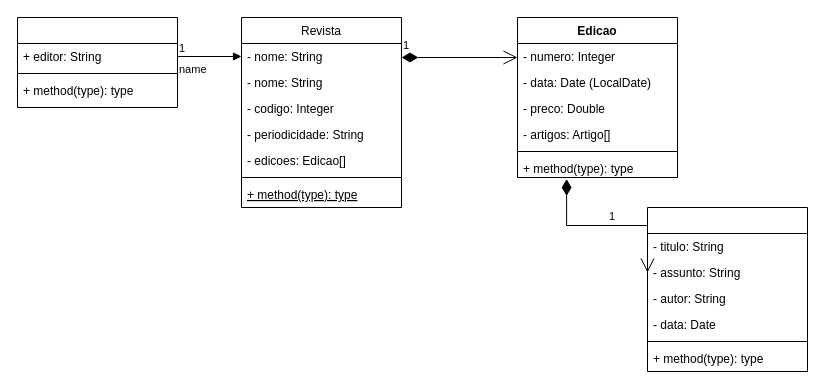
The diagram is 825 pixels wide and 392 high, and some of its shapes have lost their labels. Here are the shapes that lost their labels. From the top down, the box of each, then its label:
(16, 16, 178, 108): Jornal
(646, 206, 808, 372): Artigo
